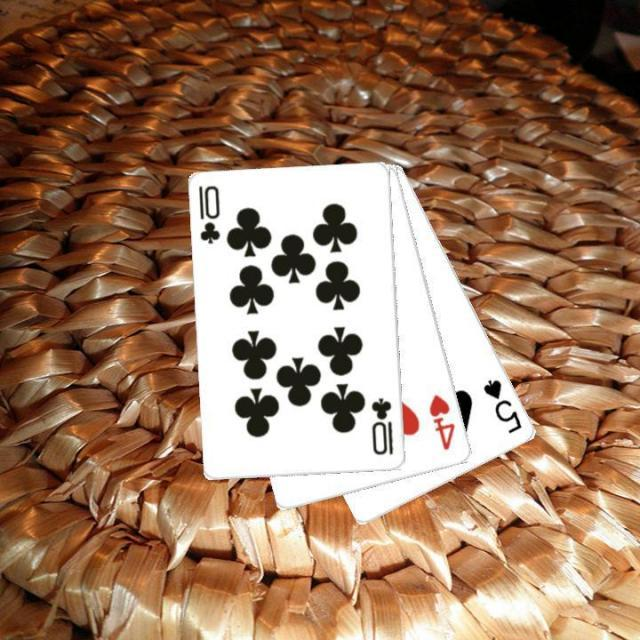10C: (368, 394, 396, 458), (195, 182, 222, 246)
4H: (426, 391, 458, 453)
5S: (480, 376, 524, 436)
